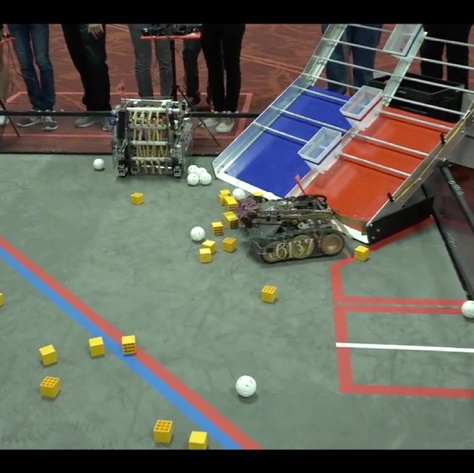robot: (238, 172, 349, 265), (105, 93, 196, 180)
